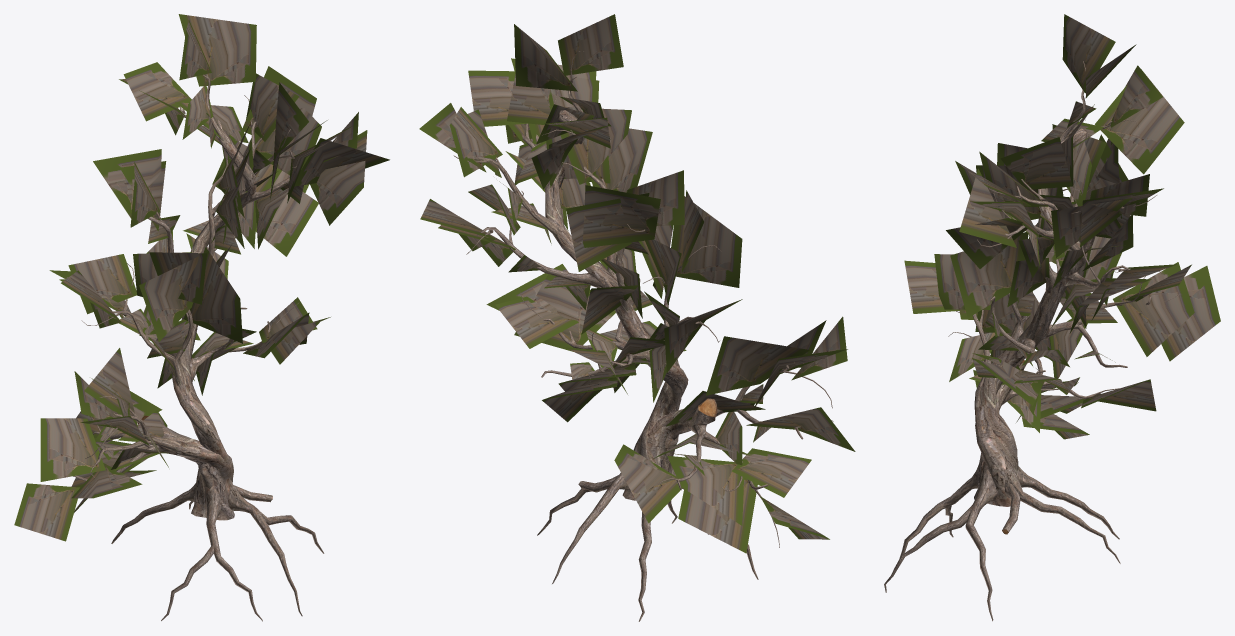
The model's file is tree-dead-old.glb.
3 views of the same model, side by side, from view 1: azimuth 30°, elevation 25°; view 2: azimuth 150°, elevation 25°; view 3: azimuth 270°, elevation 25° (orthographic). The views are drawn at different scales.
Visible parts, largest first — view 1: Tree_2, Tree_0; view 2: Tree_2, Tree_0; view 3: Tree_2, Tree_0.
Boxes of the visible parts, x1,y1,x2,y2 form: Tree_2: (14, 14, 389, 541); Tree_0: (73, 51, 336, 621); Tree_2: (419, 14, 855, 553); Tree_0: (453, 51, 833, 621); Tree_2: (904, 14, 1220, 439); Tree_0: (884, 61, 1182, 621).
Bounding box in the file's own units: 5.71 × 8.58 × 4.65.
3 materials, 3 textured.
